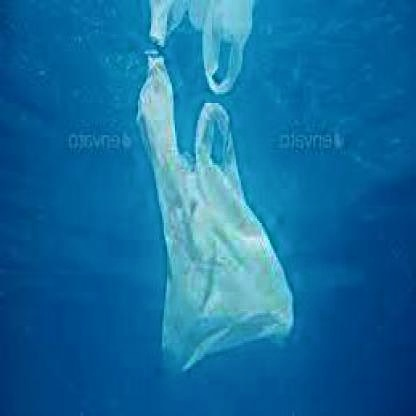pbag: (137, 56, 297, 377)
